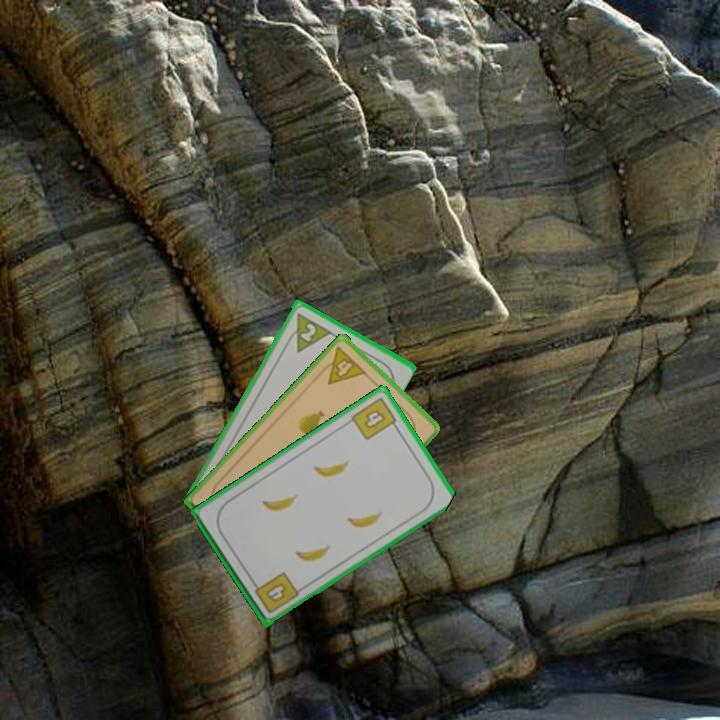2p: (297, 319, 319, 344)
4b: (348, 393, 402, 443), (249, 568, 302, 617)
4p: (315, 343, 369, 387)
